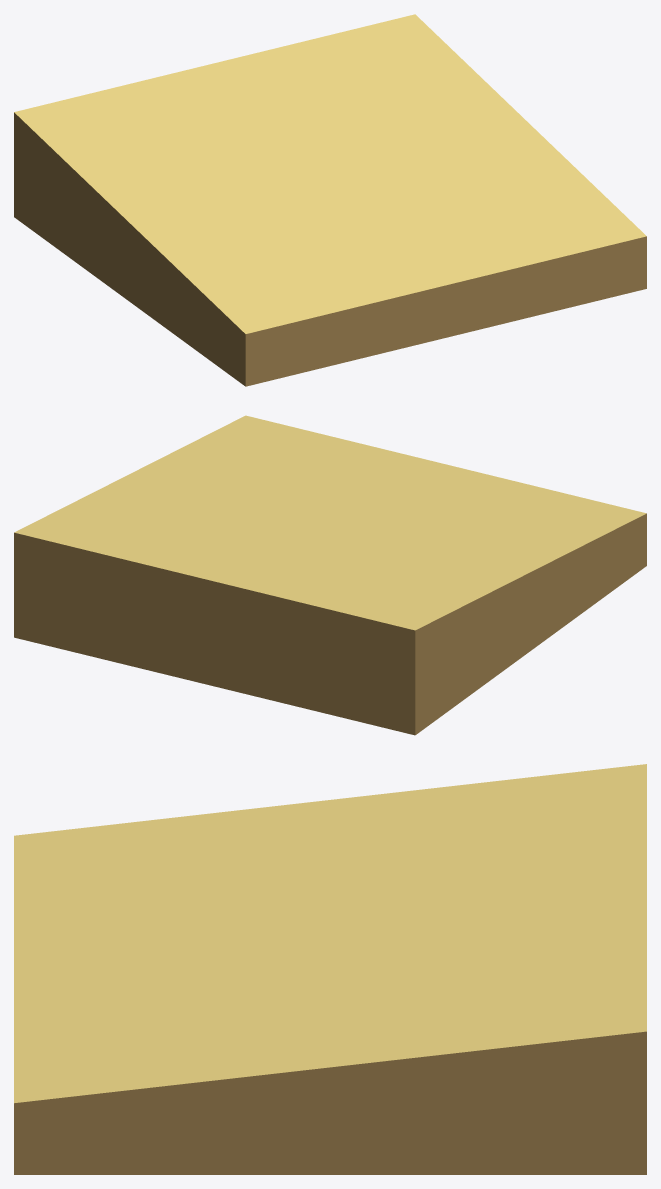
The model's file is Terrain_Tile_Sand_Ramp_01.fbx.
3 views of the same model, one above another, from view 1: azimuth 30°, elevation 25°; view 2: azimuth 150°, elevation 25°; view 3: azimuth 270°, elevation 25° (orthographic). The views are drawn at different scales.
Parts seen in each view (by area): view 1: Terrain_Tile_Sand_Ramp_01; view 2: Terrain_Tile_Sand_Ramp_01; view 3: Terrain_Tile_Sand_Ramp_01.
Boxes of the visible parts, x1=… form: Terrain_Tile_Sand_Ramp_01: x1=14, y1=14, x2=646, y2=386; Terrain_Tile_Sand_Ramp_01: x1=14, y1=415, x2=646, y2=735; Terrain_Tile_Sand_Ramp_01: x1=14, y1=764, x2=646, y2=1174.
Size of the model in its own units: 126 by 31.5 by 126.
